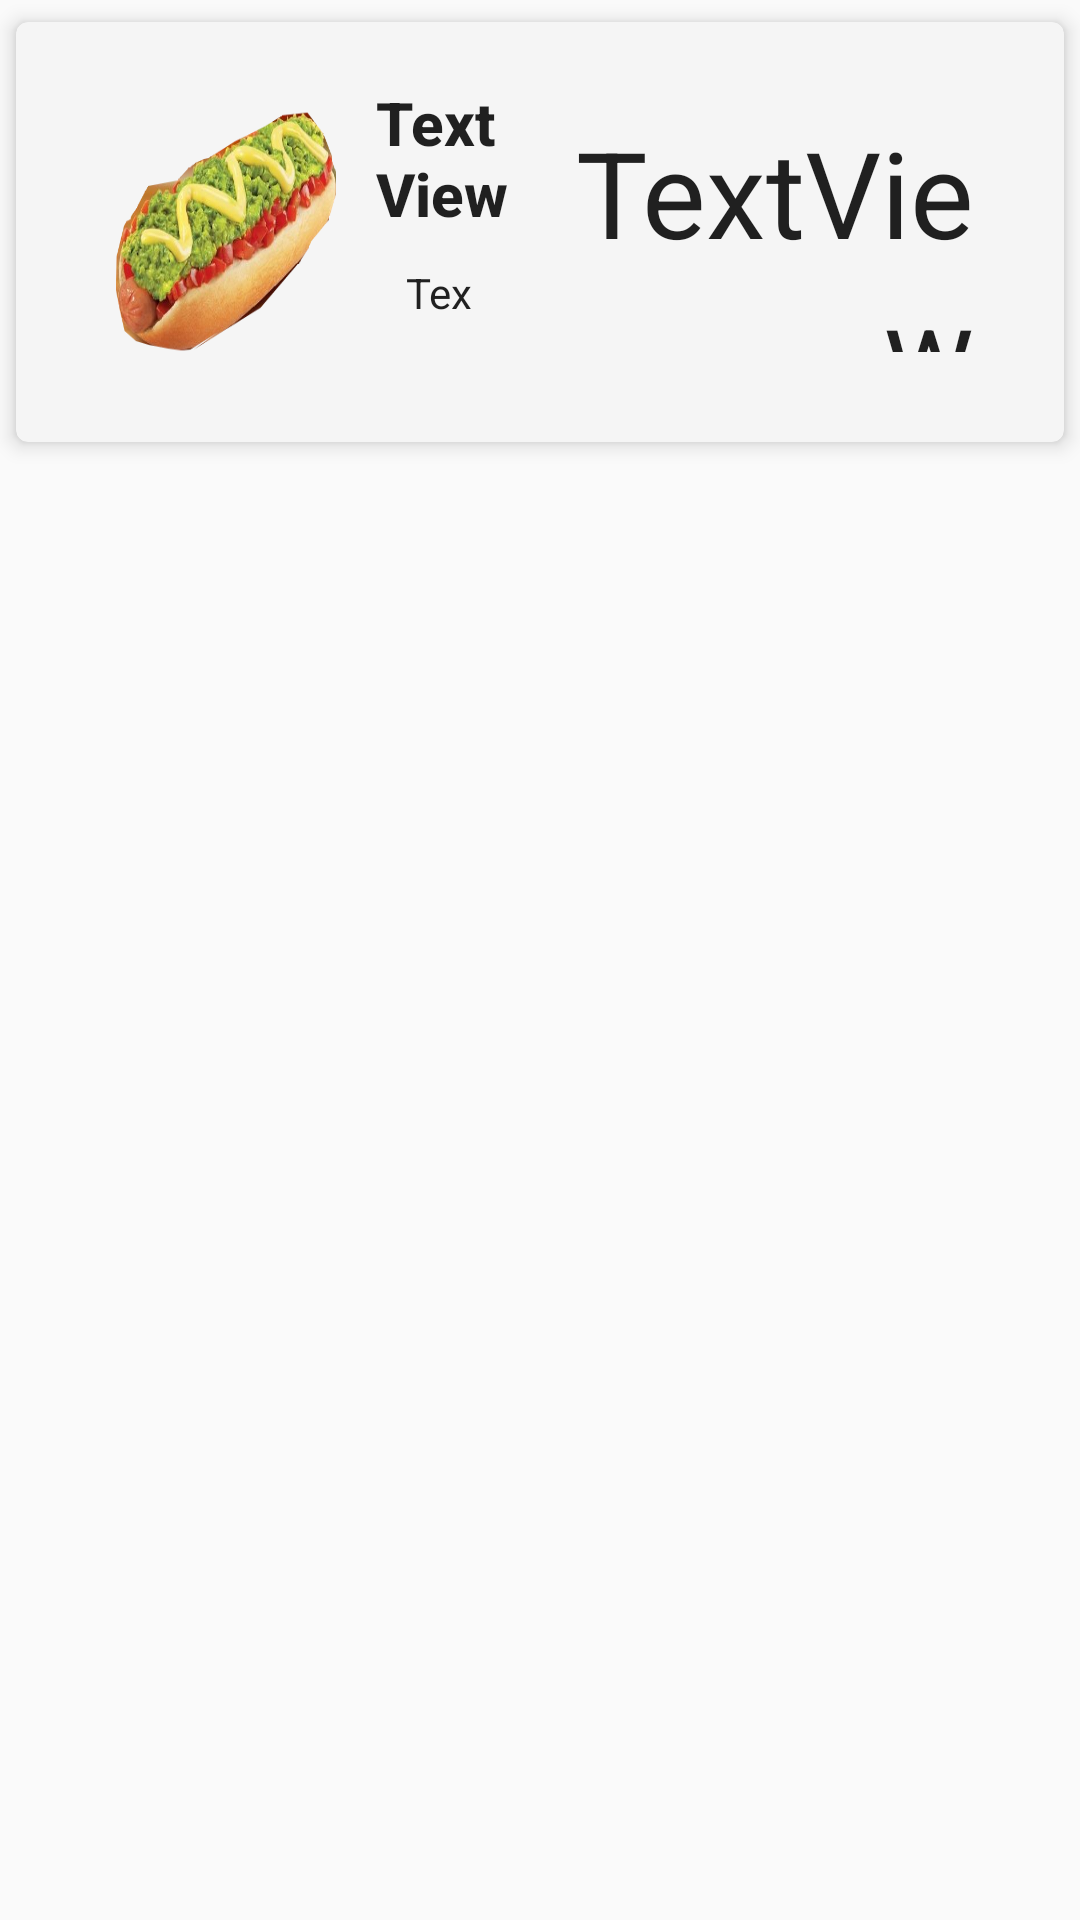

Point at icon controls on the screen. Image size 1080*1920, points as [x,y].
tocomple: [226,231]
